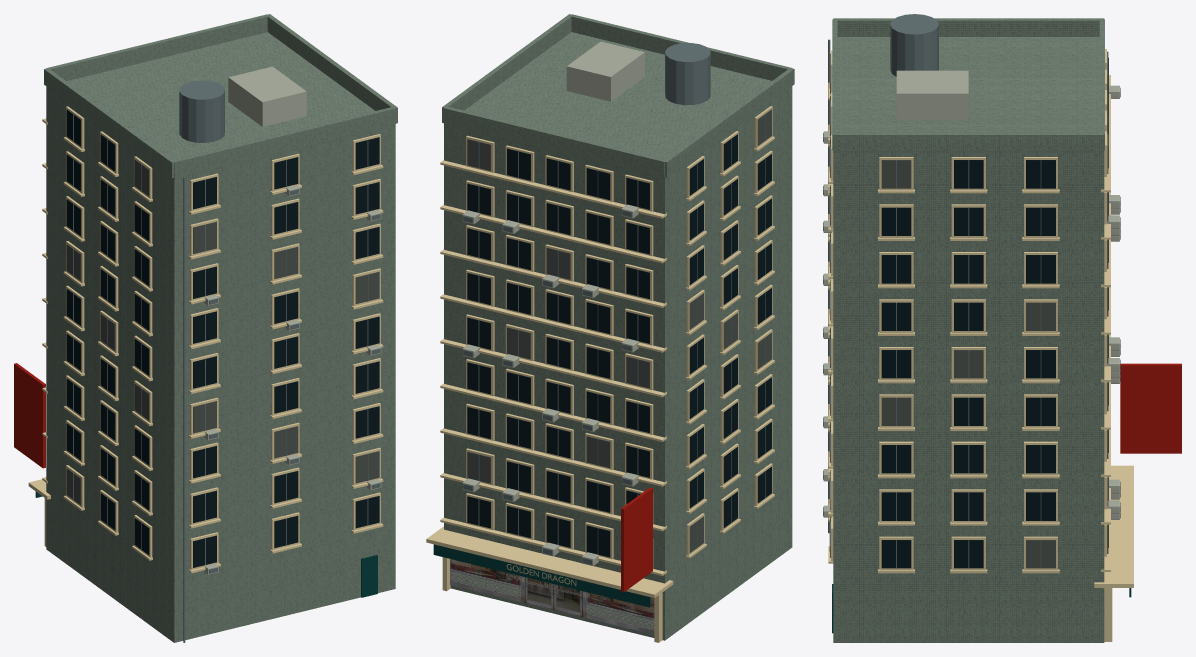
File: shop_1.glb
3 views of the same model, side by side, from view 1: azimuth 30°, elevation 25°; view 2: azimuth 150°, elevation 25°; view 3: azimuth 270°, elevation 25° (orthographic). The views are drawn at different scales.
Visible parts, largest first — view 1: shop_1_Body.004; view 2: shop_1_Body.004; view 3: shop_1_Body.004.
Part boxes in pixels (<box>): shop_1_Body.004: <box>14,14,397,642</box>; shop_1_Body.004: <box>426,14,794,642</box>; shop_1_Body.004: <box>823,14,1181,642</box>.
Size of the model in its own units: 15.5 by 32.9 by 19.86.
Materials: 9 (2 with a texture image).
